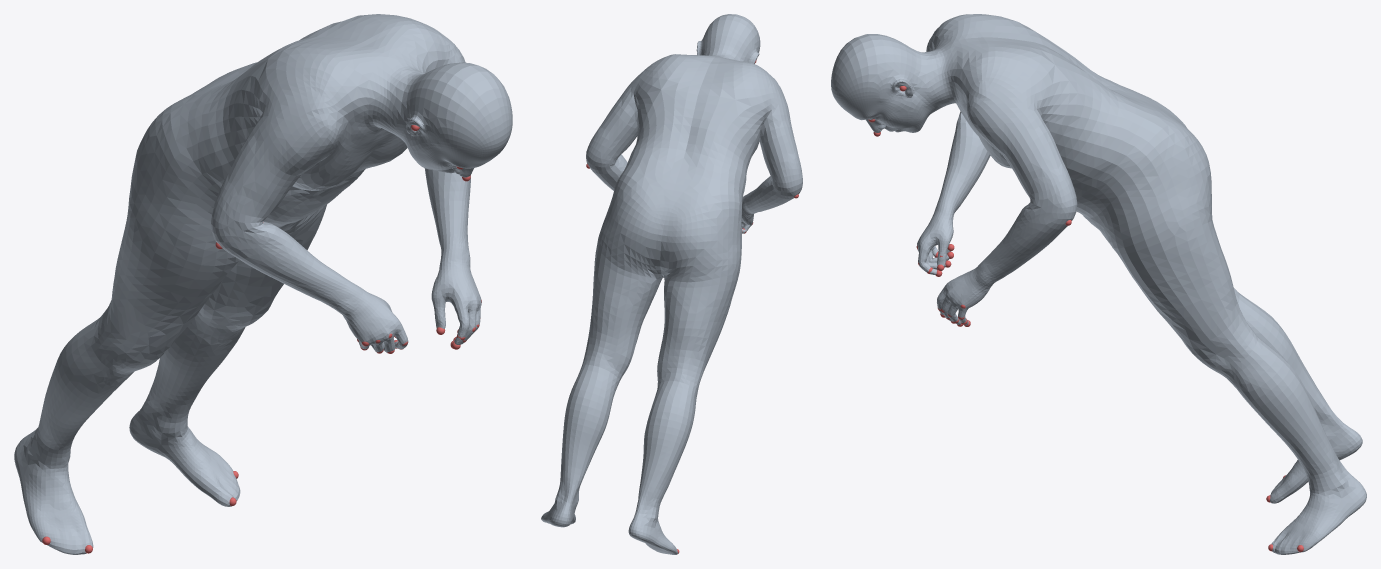
Rendered from hand-mesh.glb.
3 views of the same model, side by side, from view 1: azimuth 30°, elevation 25°; view 2: azimuth 150°, elevation 25°; view 3: azimuth 270°, elevation 25° (orthographic). The views are drawn at different scales.
Visible parts, largest first — view 1: person_00; view 2: person_00; view 3: person_00.
Part boxes in pixels (box(x1,y1,x2,y2)): person_00: box(14, 14, 512, 554); person_00: box(541, 14, 802, 554); person_00: box(831, 14, 1366, 554).
Size of the model in its own units: 0.614 by 1.27 by 1.19.
